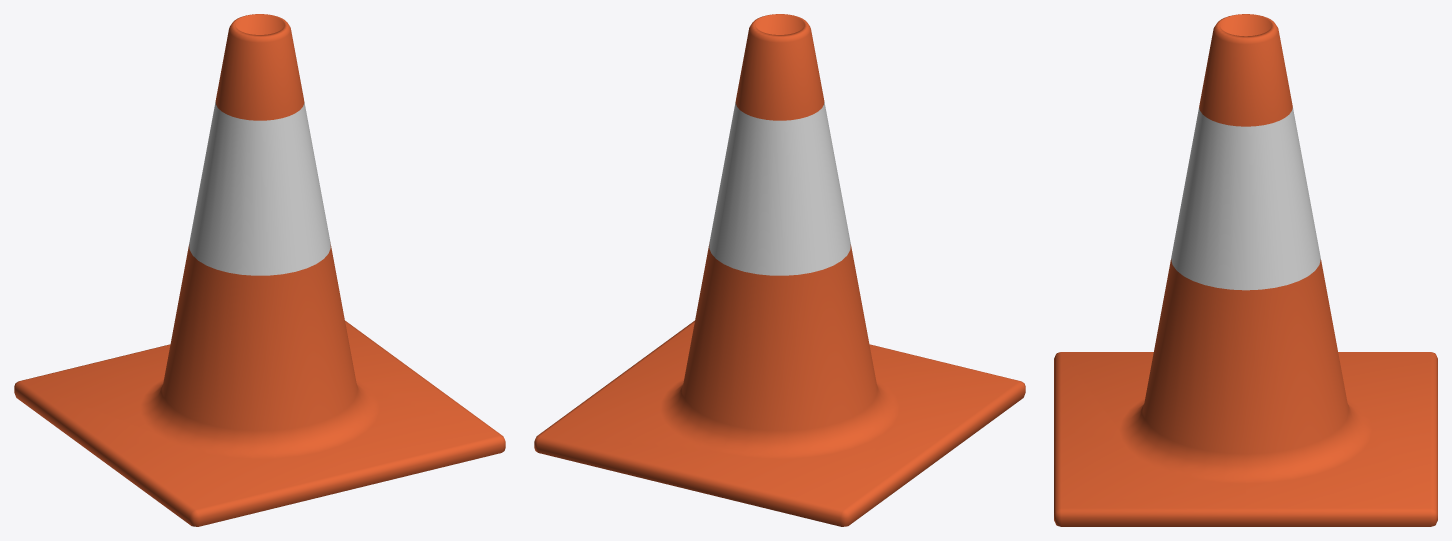
File: corn (1).fbx
3 views of the same model, side by side, from view 1: azimuth 30°, elevation 25°; view 2: azimuth 150°, elevation 25°; view 3: azimuth 270°, elevation 25° (orthographic). The views are drawn at different scales.
Parts seen in each view (by area): view 1: 立方体; view 2: 立方体; view 3: 立方体.
Boxes of the visible parts, x1,y1,x2,y2 form: 立方体: (14, 14, 505, 526); 立方体: (534, 14, 1025, 526); 立方体: (1054, 14, 1437, 526).
Bounding box in the file's own units: 91.86 × 111 × 91.86.
